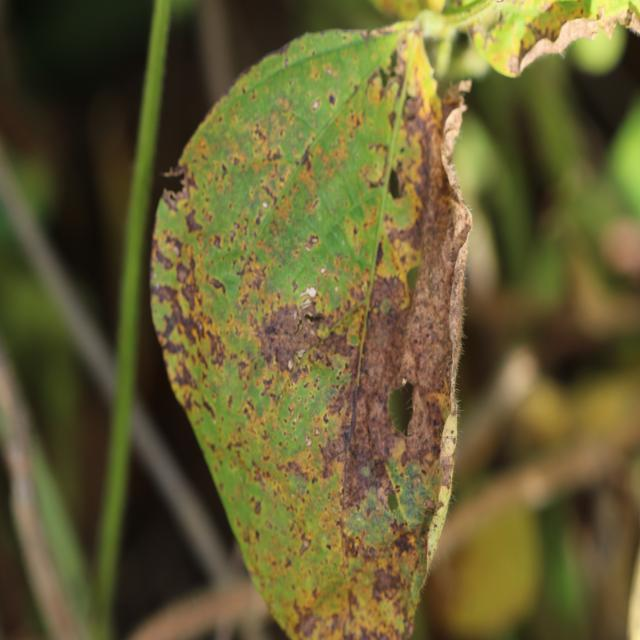Bacterial_Blight: (400, 258, 455, 402), (261, 293, 330, 374), (159, 265, 213, 357), (337, 443, 376, 511), (518, 5, 571, 49), (446, 190, 472, 255), (365, 141, 394, 186), (371, 561, 401, 594), (390, 531, 416, 558), (297, 611, 320, 636), (288, 472, 310, 498), (383, 72, 401, 99), (619, 6, 637, 31), (404, 94, 421, 120), (185, 210, 203, 234), (162, 190, 180, 213), (263, 318, 282, 339), (235, 256, 253, 278), (175, 260, 191, 284), (262, 184, 278, 206), (208, 276, 226, 295), (299, 146, 313, 170), (302, 310, 324, 325), (161, 165, 184, 179), (202, 399, 215, 420), (266, 146, 282, 163), (508, 54, 521, 74), (243, 401, 255, 420), (300, 537, 311, 554), (424, 497, 436, 511), (253, 500, 262, 515), (328, 93, 336, 106), (309, 234, 318, 245), (292, 279, 299, 293), (229, 230, 236, 243), (304, 434, 311, 447), (326, 542, 332, 550)
Soybean: (151, 23, 472, 640)
